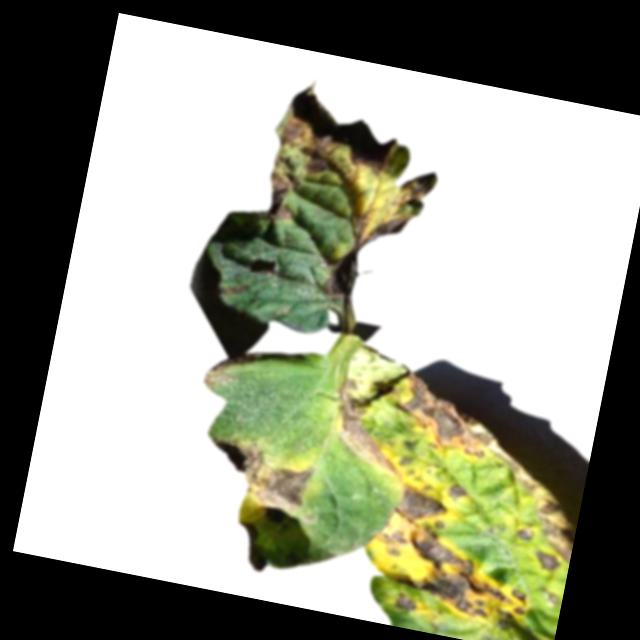Early_blight: (359, 358, 601, 632), (245, 76, 453, 318), (199, 441, 317, 521), (324, 388, 410, 475), (202, 355, 239, 391), (393, 591, 420, 617), (221, 281, 250, 301)
